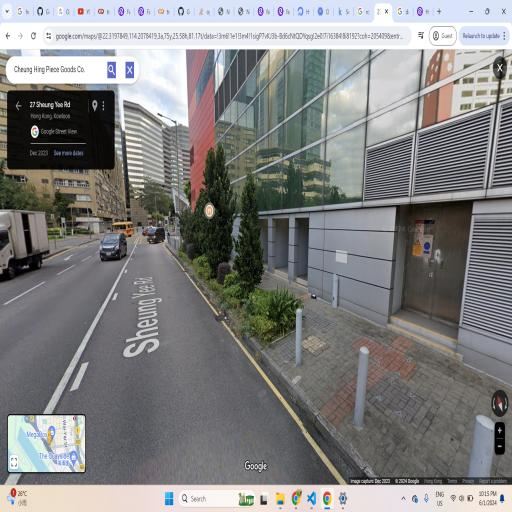Roads: (7, 216, 348, 480)
Trees: (183, 131, 235, 324), (233, 156, 266, 324)
